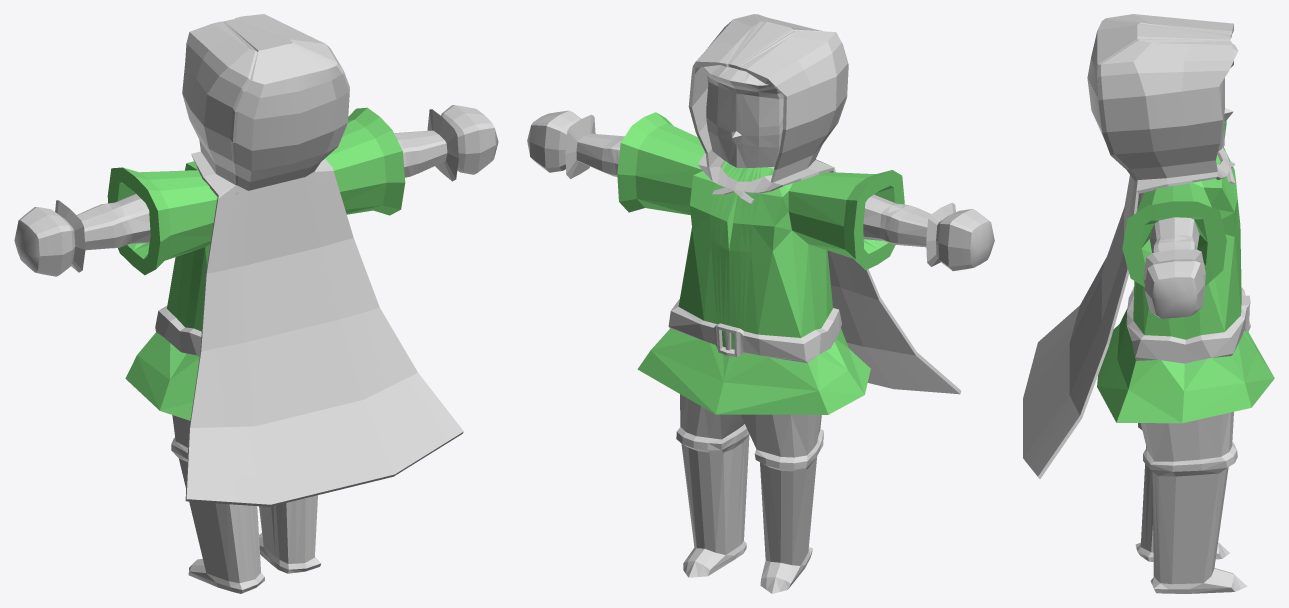
File: char.fbx
3 views of the same model, side by side, from view 1: azimuth 30°, elevation 25°; view 2: azimuth 150°, elevation 25°; view 3: azimuth 270°, elevation 25° (orthographic). The views are drawn at different scales.
Visible parts, largest first — view 1: char; view 2: char; view 3: char.
Boxes of the visible parts, x1=… form: char: x1=14, y1=14, x2=498, y2=593; char: x1=527, y1=14, x2=994, y2=593; char: x1=1023, y1=14, x2=1274, y2=593.
Size of the model in its own units: 2099 by 2329 by 980.
